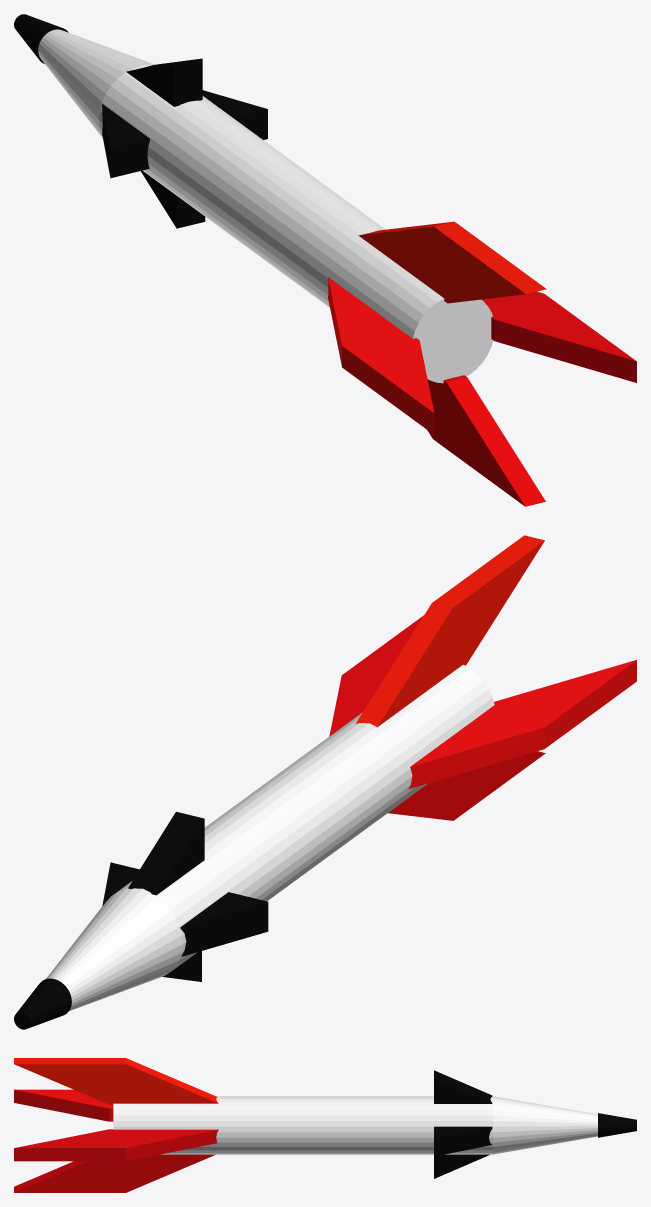
Rendered from missile.fbx.
The picture shows the model from 3 angles, top to bottom: view 1: azimuth 30°, elevation 25°; view 2: azimuth 150°, elevation 25°; view 3: azimuth 270°, elevation 25°; orthographic projection. The views are drawn at different scales.
Visible parts, largest first — view 1: body, body.001, 큐브, 큐브.002, 큐브.001, 큐브.003, 큐브.004, 큐브.006, 큐브.005, 큐브.007, 큐브.008; view 2: body, body.001, 큐브, 큐브.002, 큐브.003, 큐브.004, 큐브.006, 큐브.001, 큐브.008, 큐브.005; view 3: body, body.001, 큐브, 큐브.001, 큐브.003, 큐브.002, 큐브.005, 큐브.004, 큐브.007, 큐브.008.
Boxes of the visible parts, x1,y1,x2,y2 form: body: (38,29,334,269); body.001: (266,187,493,383); 큐브: (358,221,546,303); 큐브.002: (328,277,434,434); 큐브.001: (481,291,636,382); 큐브.003: (427,375,545,506); 큐브.004: (126,58,202,106); 큐브.006: (102,104,149,178); 큐브.005: (202,90,267,139); 큐브.007: (141,170,205,228); 큐브.008: (14,14,68,63); body: (46,766,350,1010); body.001: (280,664,494,848); 큐브: (355,535,544,727); 큐브.002: (408,660,636,789); 큐브.003: (388,751,545,820); 큐브.004: (128,811,204,895); 큐브.006: (180,892,268,956); 큐브.001: (329,615,423,736); 큐브.008: (14,978,71,1029); 큐브.005: (102,862,139,905); body: (290,1096,597,1154); body.001: (113,1096,289,1154); 큐브: (14,1058,218,1104); 큐브.001: (14,1129,218,1161); 큐브.003: (14,1154,215,1192); 큐브.002: (14,1089,113,1121); 큐브.005: (434,1126,492,1156); 큐브.004: (434,1070,492,1103); 큐브.007: (434,1154,489,1178); 큐브.008: (598,1113,636,1137).
Size of the model in its own units: 973 by 975 by 4270.
